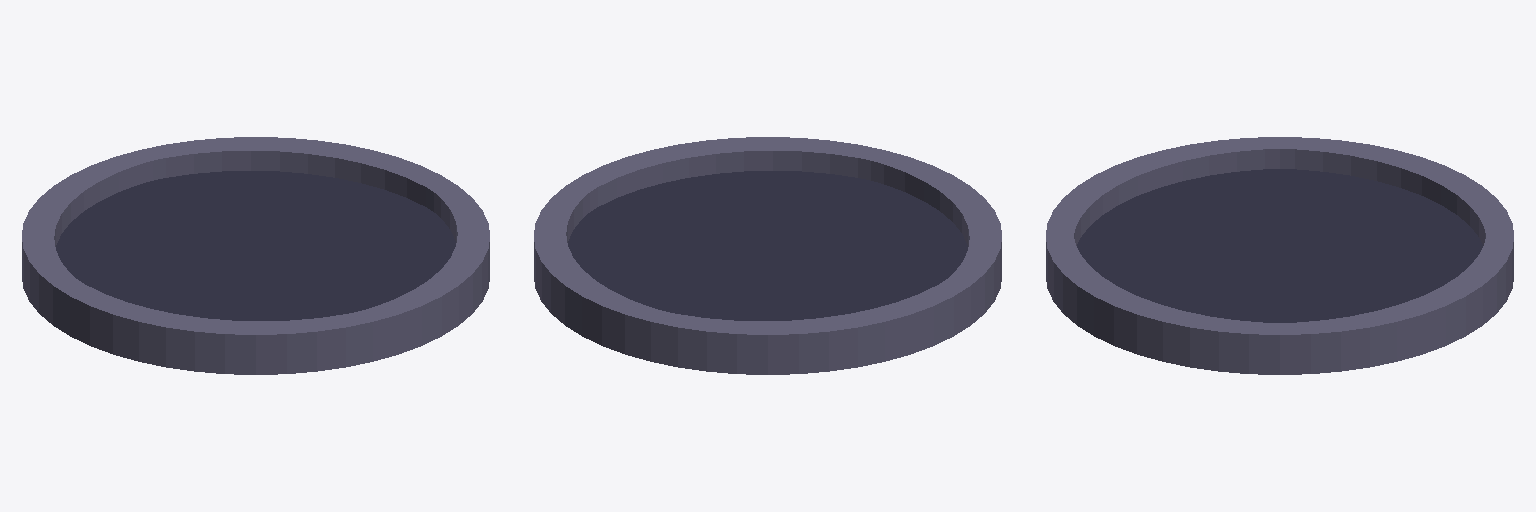
Rendered from Plate.obj.
The picture shows the model from 3 angles: view 1: azimuth 30°, elevation 25°; view 2: azimuth 150°, elevation 25°; view 3: azimuth 270°, elevation 25°; orthographic projection.
Parts seen in each view (by area): view 1: roof_flatSideRound%; view 2: roof_flatSideRound%; view 3: roof_flatSideRound%.
Boxes of the visible parts, x1,y1,x2,y2 form: roof_flatSideRound%: [22, 137, 489, 374]; roof_flatSideRound%: [534, 137, 1001, 374]; roof_flatSideRound%: [1046, 137, 1513, 374].
Size of the model in its own units: 2.12 by 0.2 by 2.12.